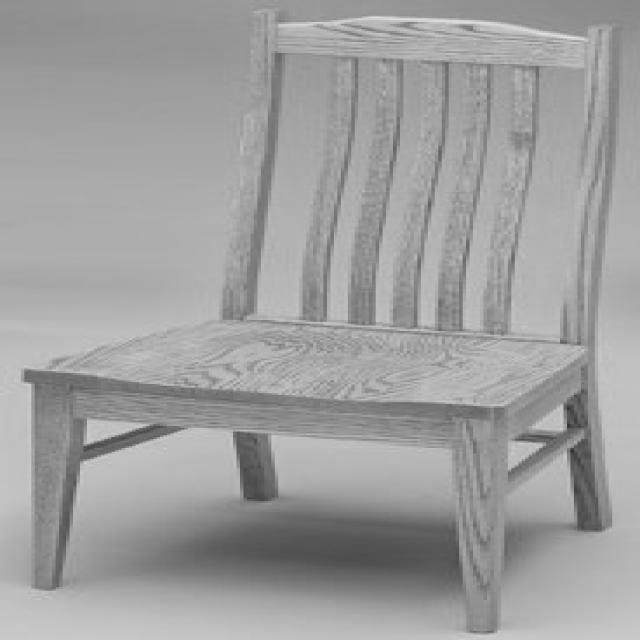chair: (20, 6, 634, 636)
